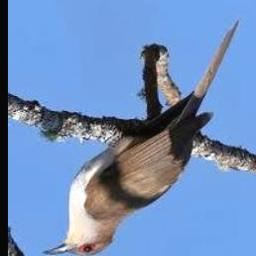Cuckoo: (43, 21, 239, 256)
